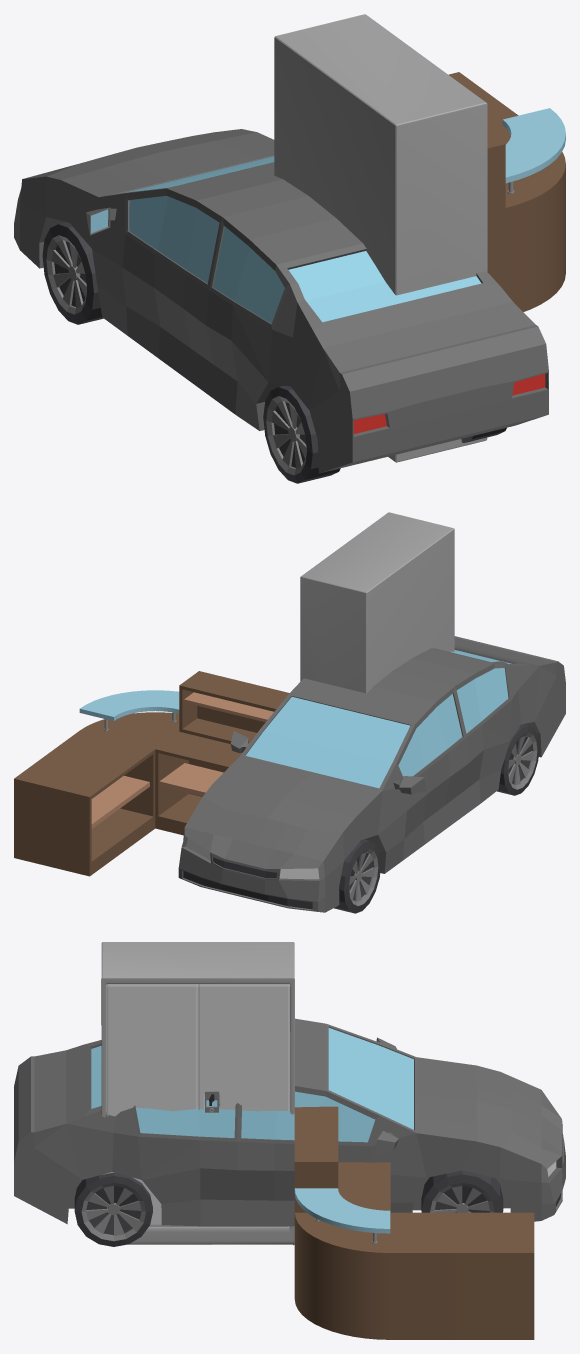
File: Model pack.fbx
3 renders of one model, top to bottom at view 1: azimuth 30°, elevation 25°; view 2: azimuth 150°, elevation 25°; view 3: azimuth 270°, elevation 25°, orthographic. The views are drawn at different scales.
Parts seen in each view (by area): view 1: Cube.001, Cube.002, Cube; view 2: Cube.001, Cube, Cube.002; view 3: Cube.001, Cube, Cube.002.
Part boxes in pixels (x1,y1,x2,y2): Cube.001: (14, 129, 548, 483); Cube.002: (274, 14, 487, 462); Cube: (448, 72, 565, 311); Cube.001: (178, 636, 565, 913); Cube: (14, 671, 289, 876); Cube.002: (300, 512, 454, 693); Cube.001: (14, 1018, 565, 1246); Cube: (294, 1106, 534, 1339); Cube.002: (101, 942, 294, 1245).
Size of the model in its own units: 896 by 619 by 1151.
